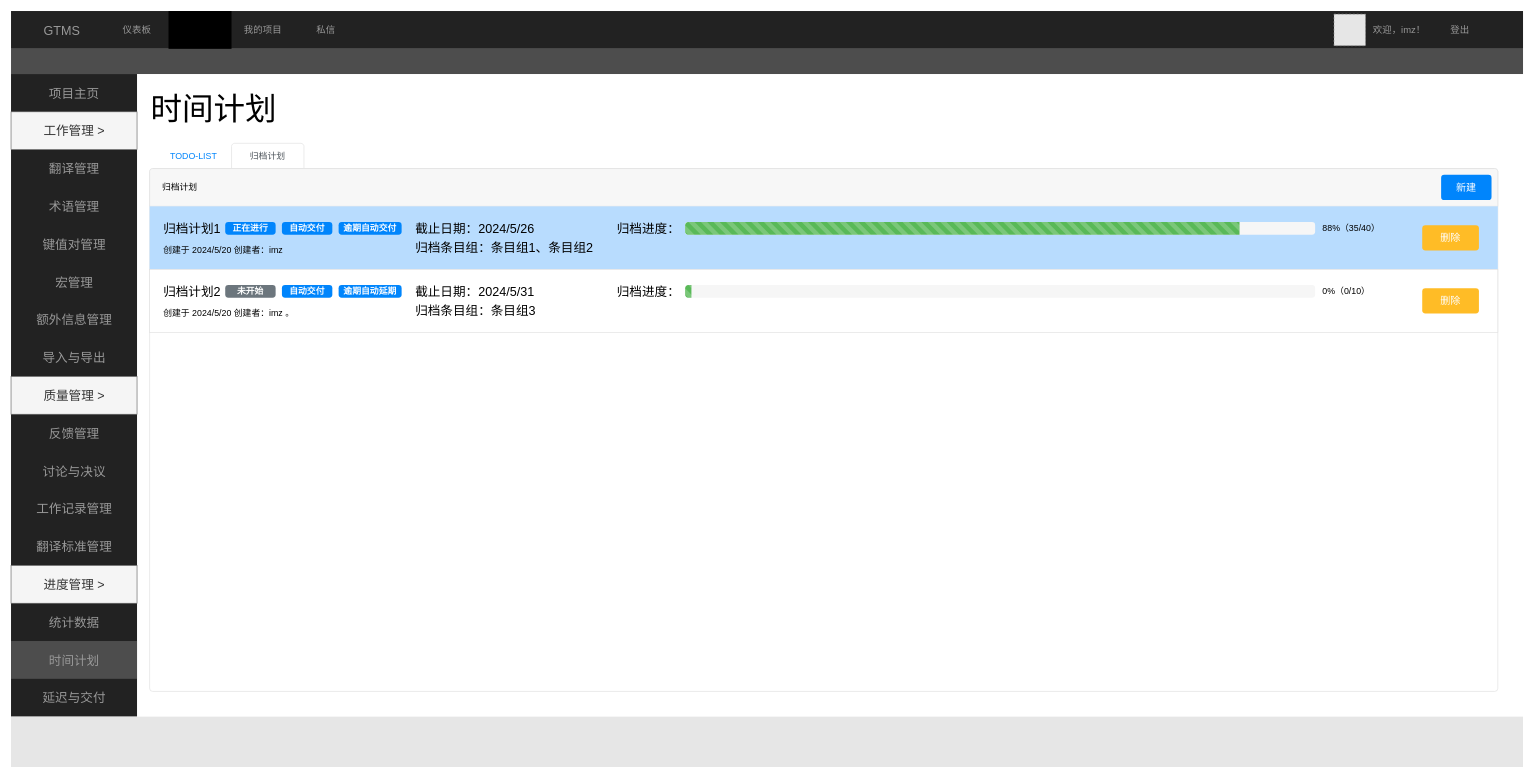
Image size: 1534x777. Some labels were removed from this diagram. Grey dashed boxes stand in for pictures. The shapes that lost their labels are listed below. From the top down, each one's centre as x and y in pixels, then its label:
At (199,30): "项目浏览".
At (767,61): "示例中文化项目01 / 时间计划".
At (767,741): "Yifan Xu 毕业设计 @天津工业大学".
